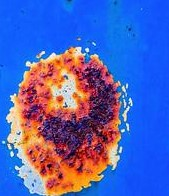Corrosion: (1, 37, 133, 196)
